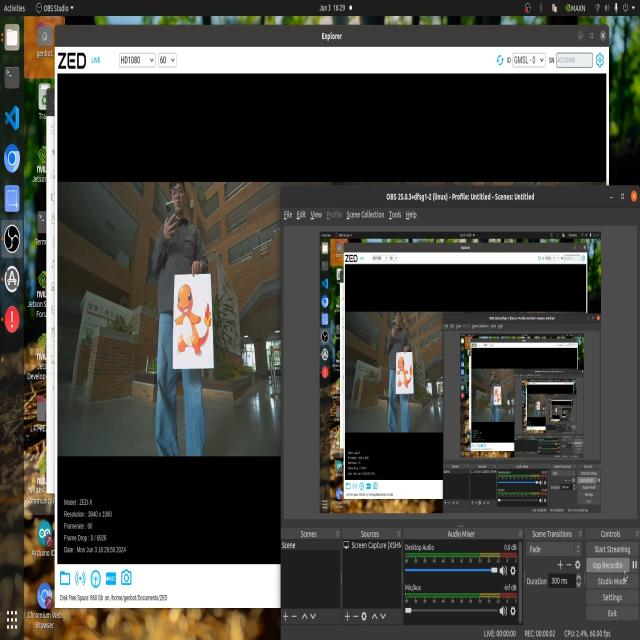red: (171, 282, 211, 364), (386, 346, 418, 396)
